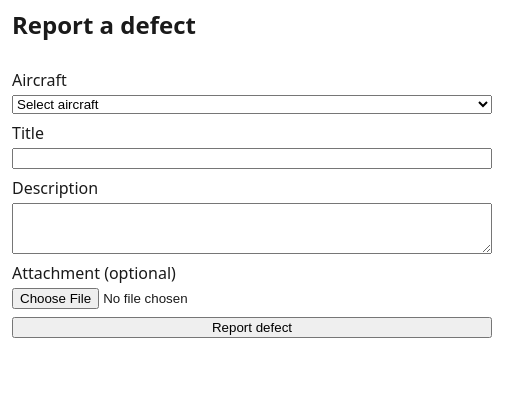
Test case: DefectForm submission › shows the server message when the defect cannot be created
Select "D-ASQA" in the dropdown labelled "Aircraft" at point(252, 104), box x1=12 y1=95 x2=492 y2=114
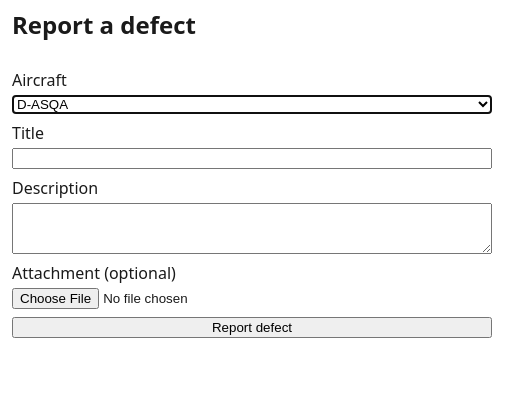
Type "Cracked windscreen" into the field labelled "Title" at point(252, 158), box x1=12 y1=148 x2=492 y2=169
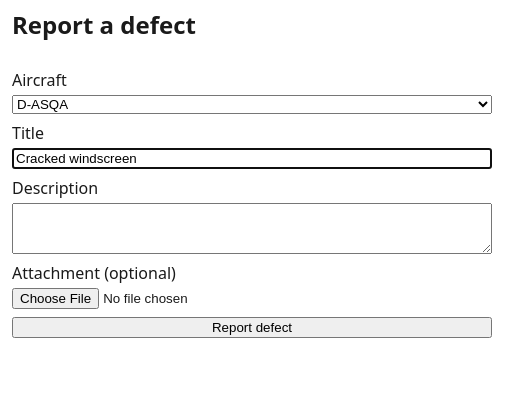
Click the button "Report defect" at point(252, 327), box x1=12 y1=317 x2=492 y2=338
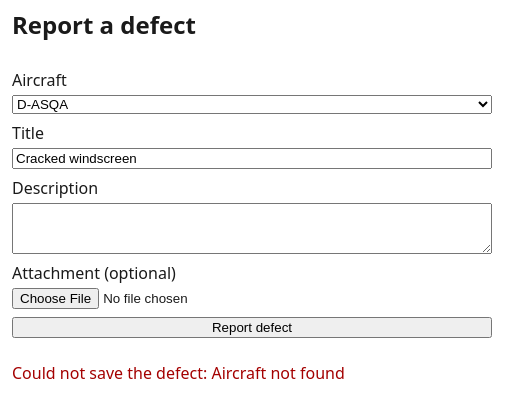
Result: the message shows "Aircraft not found" at x1=211 y1=362 x2=345 y2=384
